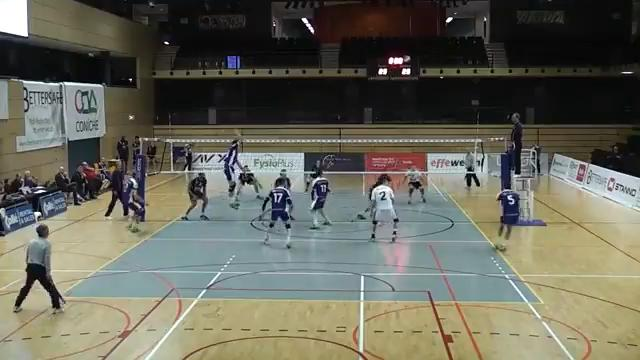Attack: (216, 125, 247, 215)
Player: (260, 179, 292, 248), (371, 177, 398, 242), (357, 174, 390, 219), (125, 172, 146, 233), (182, 172, 208, 219), (310, 169, 330, 228), (497, 187, 519, 239), (235, 165, 263, 202), (404, 166, 425, 203), (305, 160, 322, 192), (276, 169, 291, 190), (278, 169, 291, 189)
